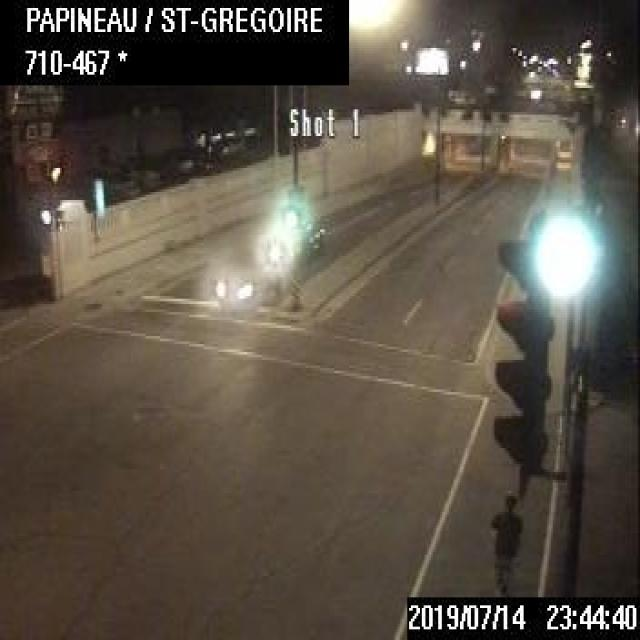vehicle: (215, 240, 280, 299), (258, 213, 325, 270)
